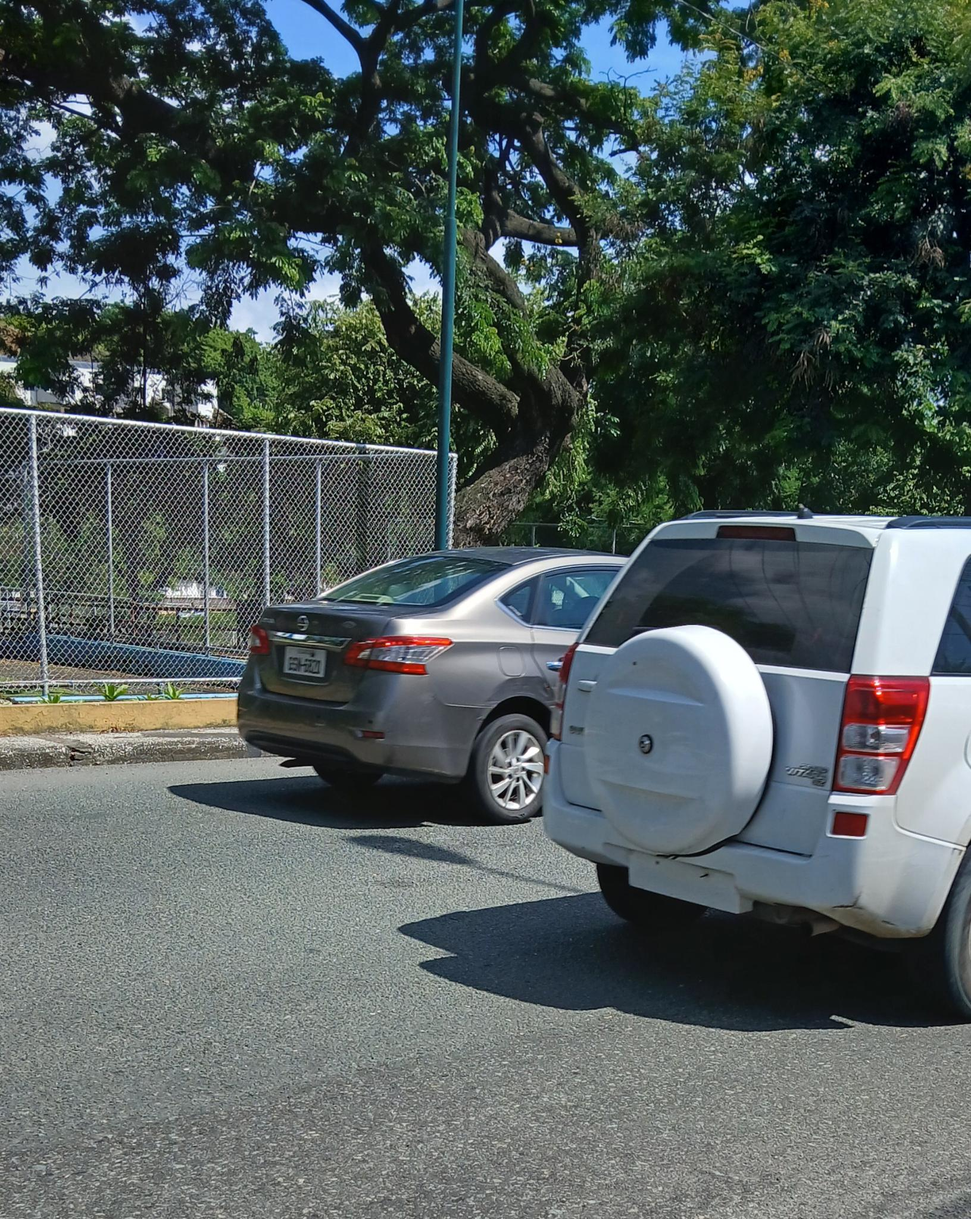license_plate: (281, 648, 325, 678)
